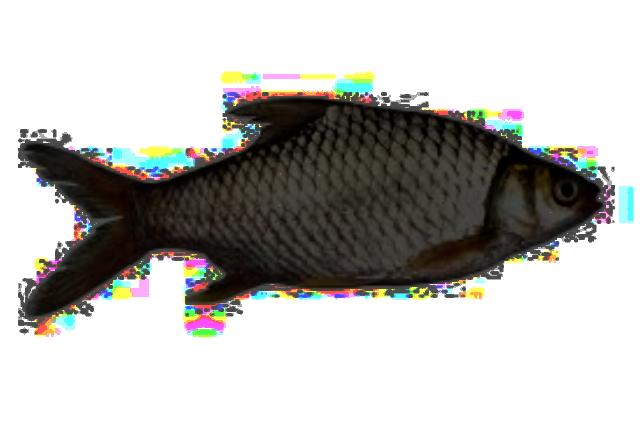Healthy Fish: (28, 98, 598, 312)
